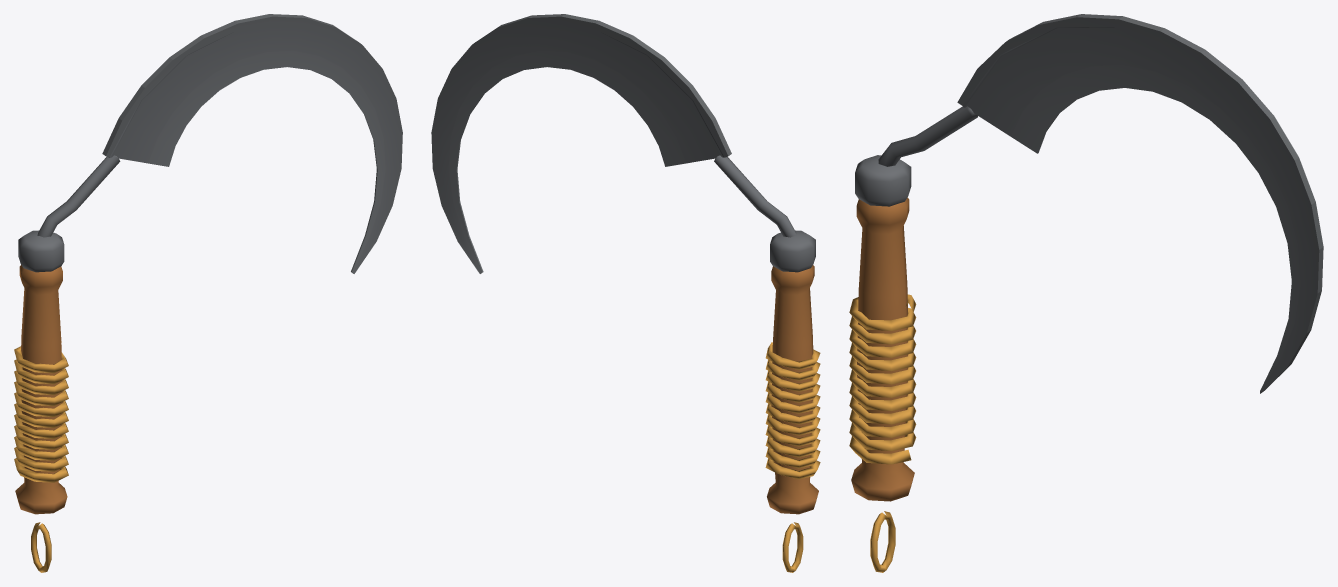
Rendered from tool_sickle_broad_a.glb.
3 renders of one model, left to right at view 1: azimuth 30°, elevation 25°; view 2: azimuth 150°, elevation 25°; view 3: azimuth 330°, elevation 25°, orthographic. The views are drawn at different scales.
Visible parts, largest first — view 1: tool_sickle_broad_a_mesh; view 2: tool_sickle_broad_a_mesh; view 3: tool_sickle_broad_a_mesh.
Part boxes in pixels (x1=…): tool_sickle_broad_a_mesh: x1=14, y1=14, x2=402, y2=572; tool_sickle_broad_a_mesh: x1=431, y1=14, x2=820, y2=572; tool_sickle_broad_a_mesh: x1=849, y1=14, x2=1323, y2=572.
Bounding box in the file's own units: 0.635 × 0.7944 × 0.0805.
